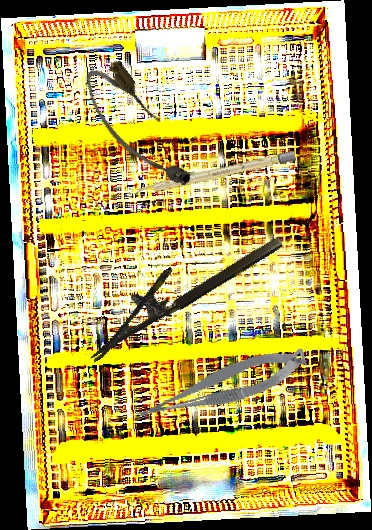Cannula: (74, 53, 201, 205)
Micro Scissor: (129, 343, 312, 427)
Needle Holder: (71, 210, 286, 364)
Scalpel Handle: (132, 150, 297, 198)
